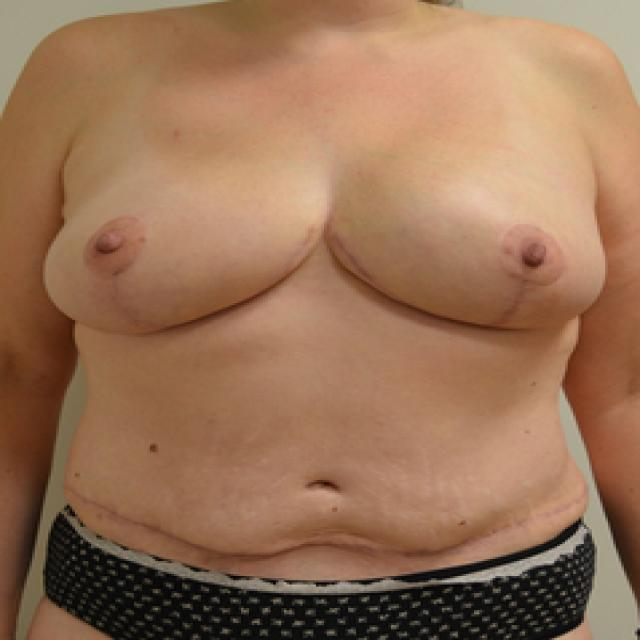Seno herido: (34, 158, 321, 346), (329, 159, 615, 341)
